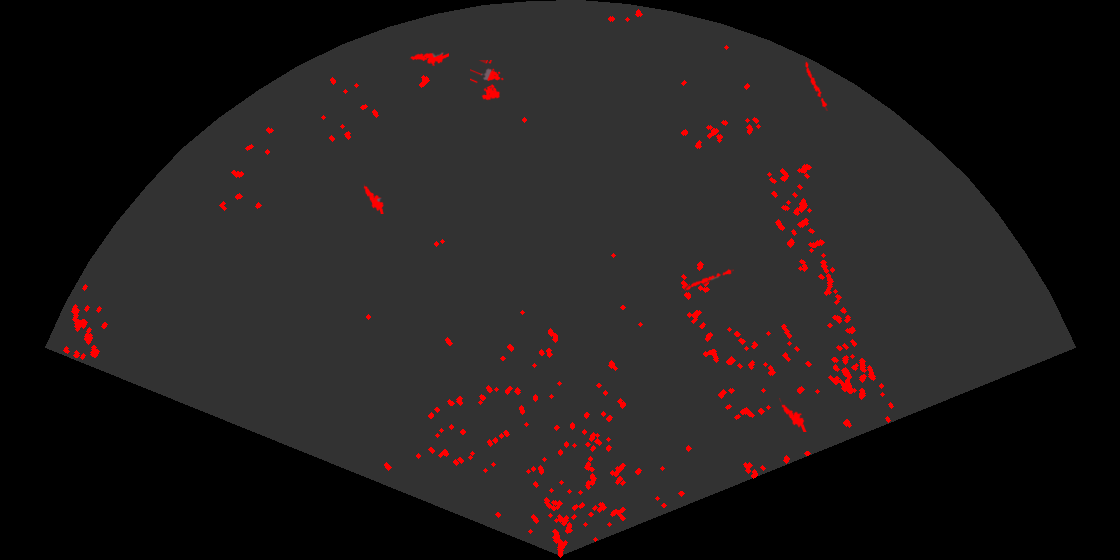cage: (470, 60, 505, 102)
chain: (803, 59, 830, 111), (681, 267, 734, 293)
frogman: (779, 398, 808, 432), (362, 183, 385, 214), (409, 51, 449, 68)
